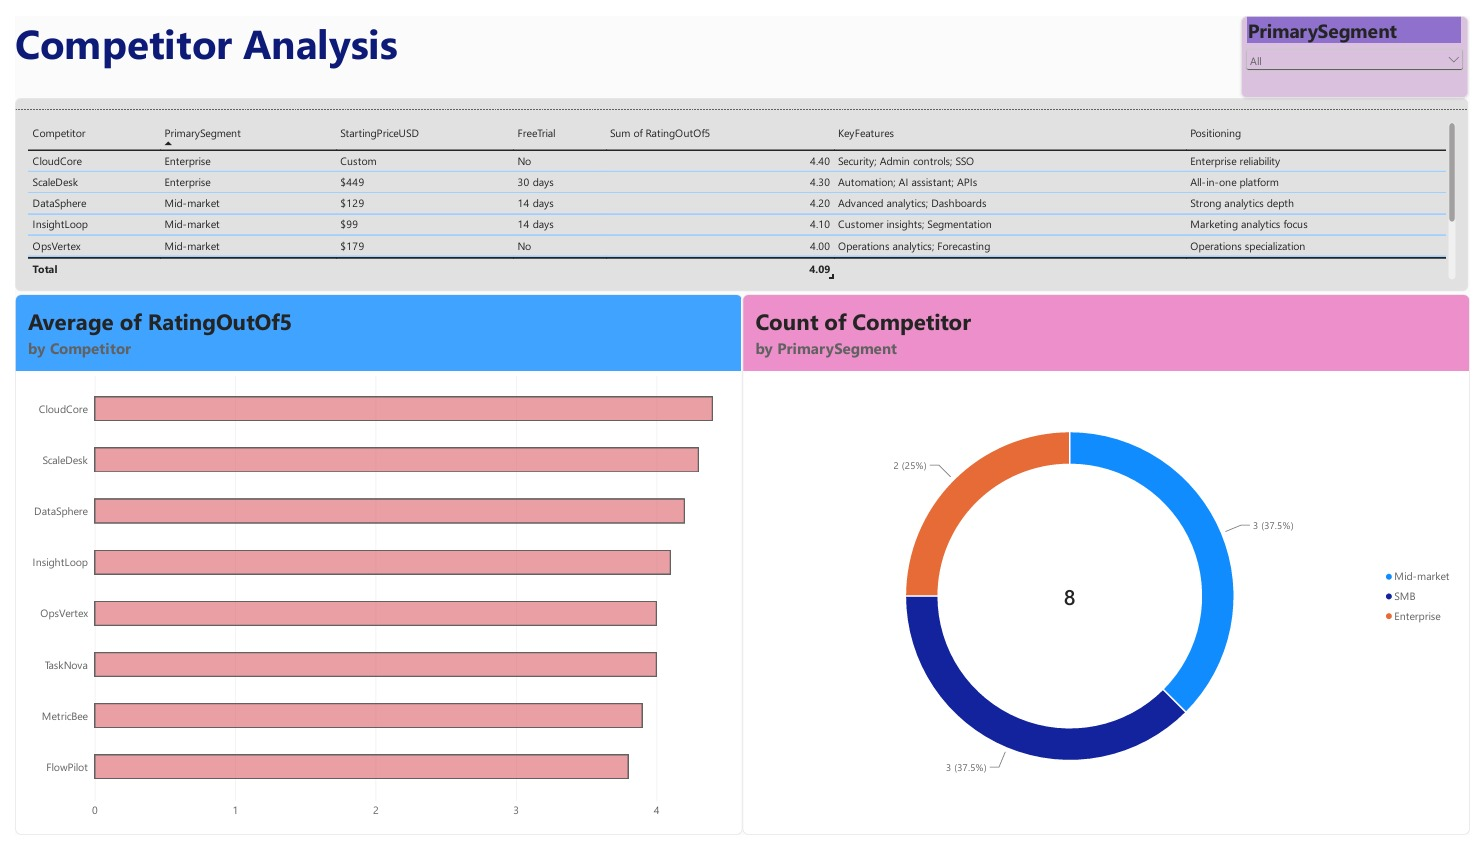

What the dashboard file says about the page in this screenshot:
{"tool":"powerbi","page":{"name":"Competitor Analysis","canvas":[1920,1080],"ordinal":3},"visuals":[{"type":"textbox","box":[0,0,597.5,107.5],"z":0},{"type":"tableEx","fields":{"Values":["Competitors.Competitor","Competitors.PrimarySegment","Competitors.StartingPriceUSD","Competitors.FreeTrial","select","Sum(Competitors.RatingOutOf5)","Competitors.KeyFeatures","Competitors.Positioning"]},"box":[0,108.3,1918.3,255],"z":1000},{"type":"clusteredBarChart","fields":{"Category":["Competitors.Competitor"],"Y":["Avg(Competitors.RatingOutOf5)"]},"box":[0,366.7,960,713.3],"z":2000},{"type":"donutChart","fields":{"Category":["Competitors.PrimarySegment"],"Y":["CountNonNull(Competitors.Competitor)"]},"box":[960,366.7,960,713.3],"z":3000},{"type":"slicer","fields":{"Values":["Competitors.PrimarySegment"]},"box":[1618,0,300,108],"z":4000}]}

Visuals, with their boxes in screenshot pixels (x1, y1, x2, y2), scaled from the page's 1920x1080 canvas onto the 1473x850 screenshot:
textbox: (left=0, top=0, right=458, bottom=85)
tableEx - Competitors.Competitor x Competitors.PrimarySegment: (left=0, top=85, right=1472, bottom=286)
clusteredBarChart - Competitors.Competitor x Avg(Competitors.RatingOutOf5): (left=0, top=289, right=736, bottom=849)
donutChart - Competitors.PrimarySegment x CountNonNull(Competitors.Competitor): (left=736, top=289, right=1472, bottom=849)
slicer - Competitors.PrimarySegment: (left=1241, top=0, right=1471, bottom=85)
